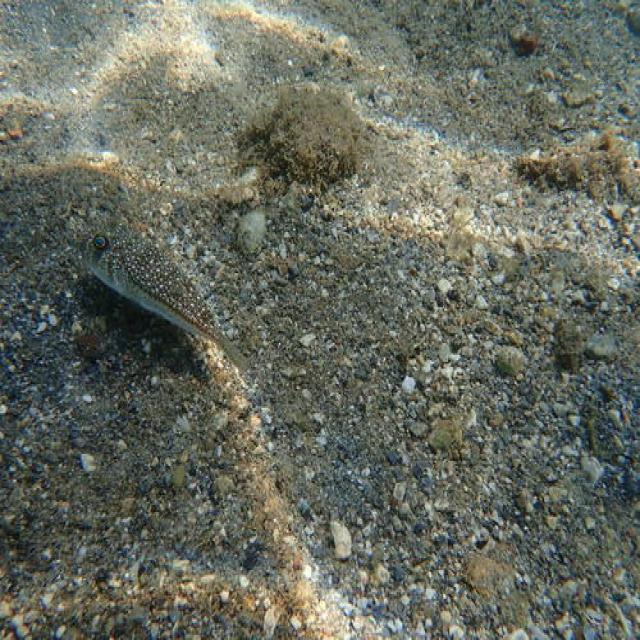Balik: (81, 224, 247, 370)
